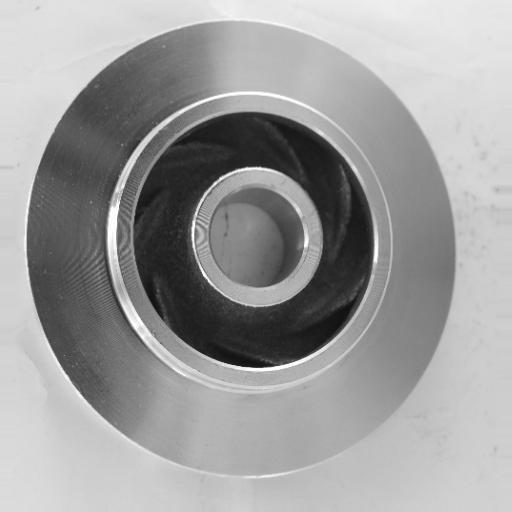polished_casting: (20, 18, 459, 482)
